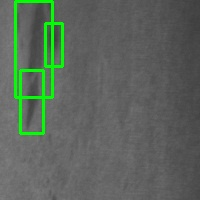inclusion: (15, 1, 52, 97), (20, 70, 43, 133), (45, 23, 62, 66)
